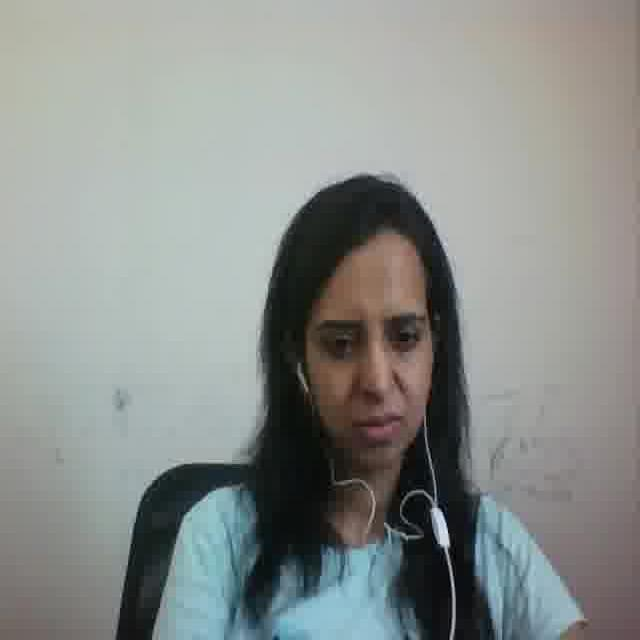Boredom: (302, 255, 430, 468)
